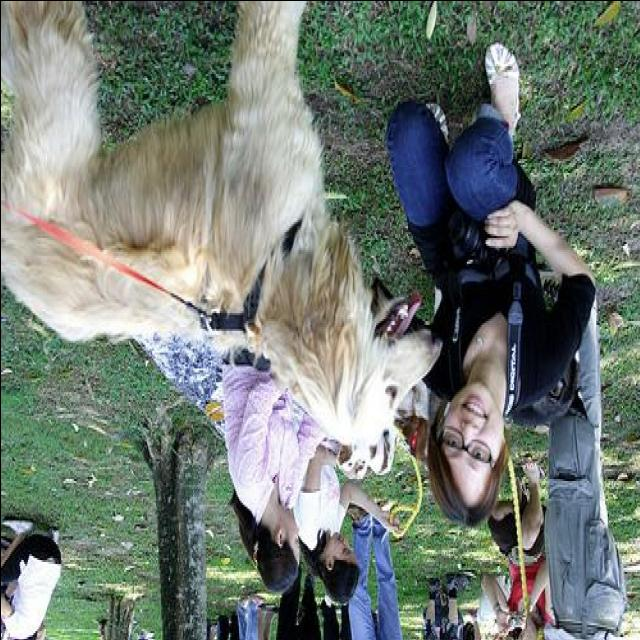afghan_hound: (2, 1, 440, 446)
